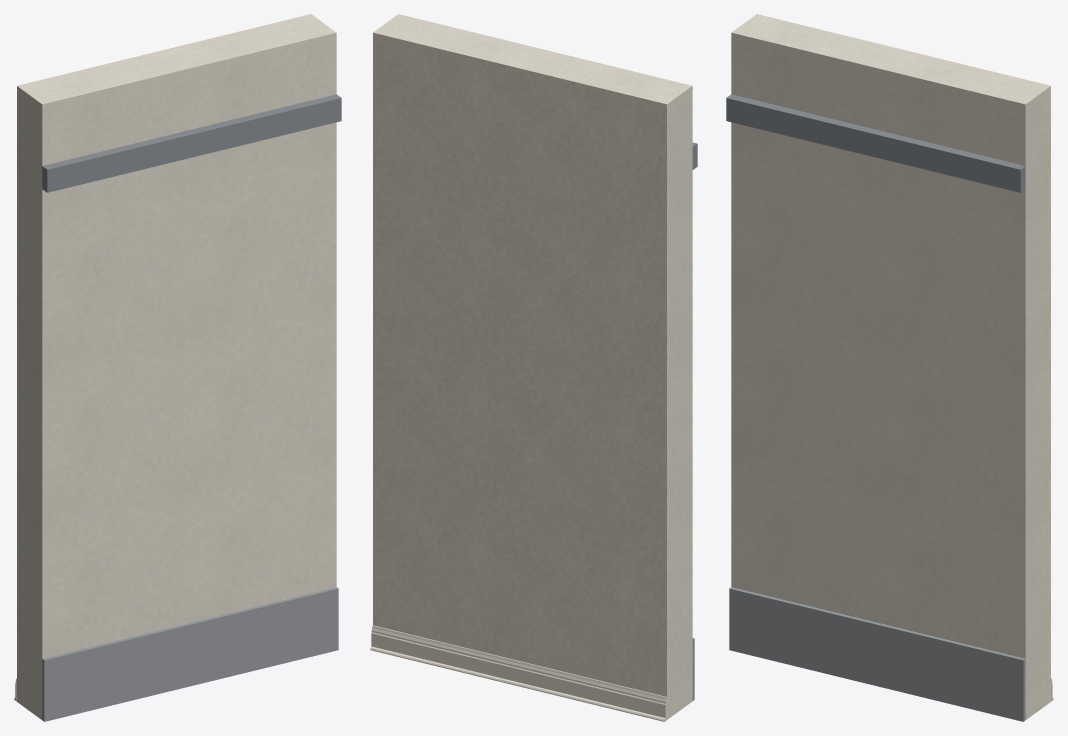
File: wall_ground_panel.glb
3 views of the same model, side by side, from view 1: azimuth 30°, elevation 25°; view 2: azimuth 150°, elevation 25°; view 3: azimuth 330°, elevation 25° (orthographic).
Parts seen in each view (by area): view 1: wall_ground_panel_panel, wall_ground_panel_coping, wall_ground_panel_shopframe, wall_ground_panel_plaster; view 2: wall_ground_panel_plaster, wall_ground_panel_panel, molduras; view 3: wall_ground_panel_panel, wall_ground_panel_coping, wall_ground_panel_shopframe, wall_ground_panel_plaster.
Part boxes in pixels (x1=…): wall_ground_panel_panel: x1=18, y1=15, x2=336, y2=719; wall_ground_panel_coping: x1=42, y1=587, x2=338, y2=721; wall_ground_panel_shopframe: x1=42, y1=94, x2=341, y2=192; wall_ground_panel_plaster: x1=17, y1=14, x2=312, y2=702; wall_ground_panel_plaster: x1=373, y1=31, x2=668, y2=719; wall_ground_panel_panel: x1=375, y1=14, x2=692, y2=718; molduras: x1=370, y1=625, x2=666, y2=721; wall_ground_panel_panel: x1=731, y1=15, x2=1049, y2=719; wall_ground_panel_coping: x1=729, y1=587, x2=1025, y2=721; wall_ground_panel_shopframe: x1=726, y1=94, x2=1025, y2=192; wall_ground_panel_plaster: x1=755, y1=14, x2=1050, y2=702.
Bounding box in the file's own units: 2 × 4 × 0.39.
Materials: 5 (2 with a texture image).
